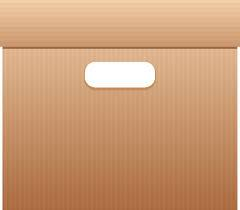Cardboard: (1, 2, 240, 210)
